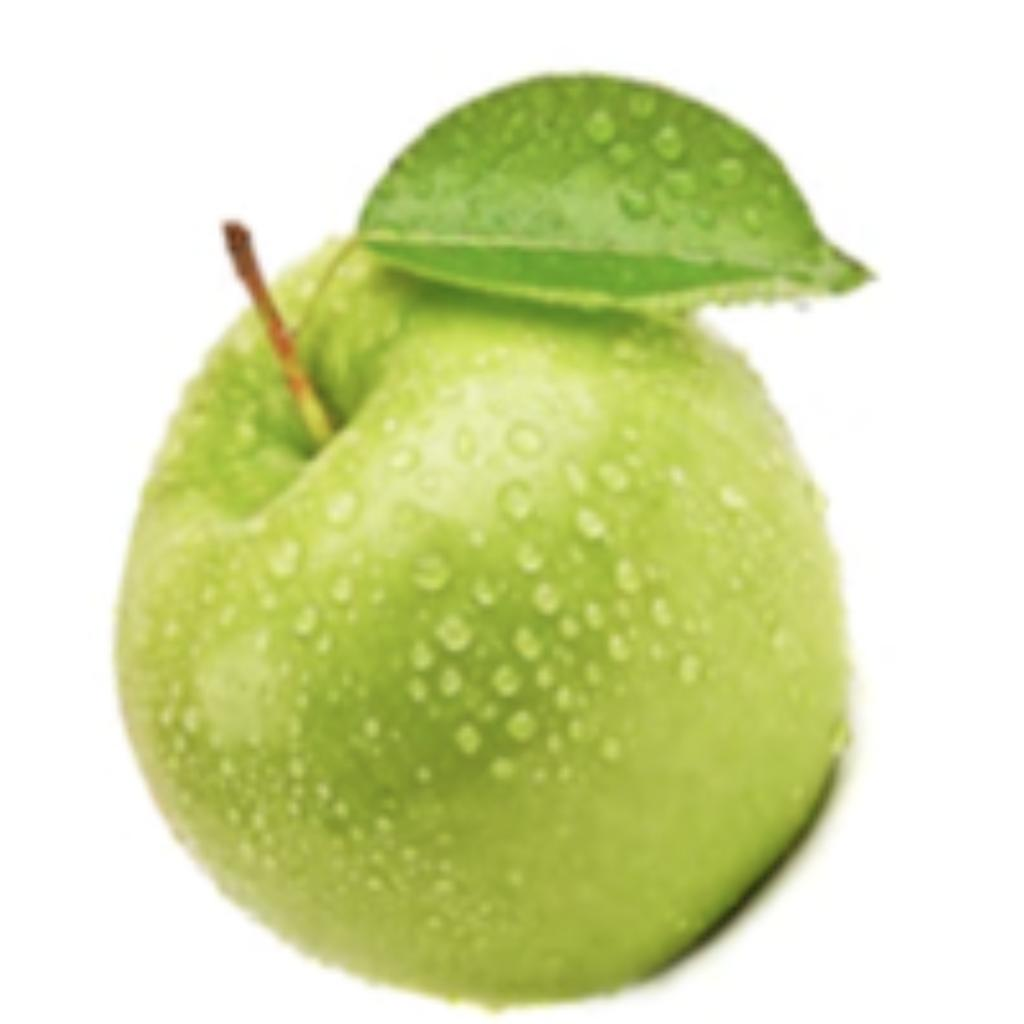apple: (102, 61, 881, 1019)
